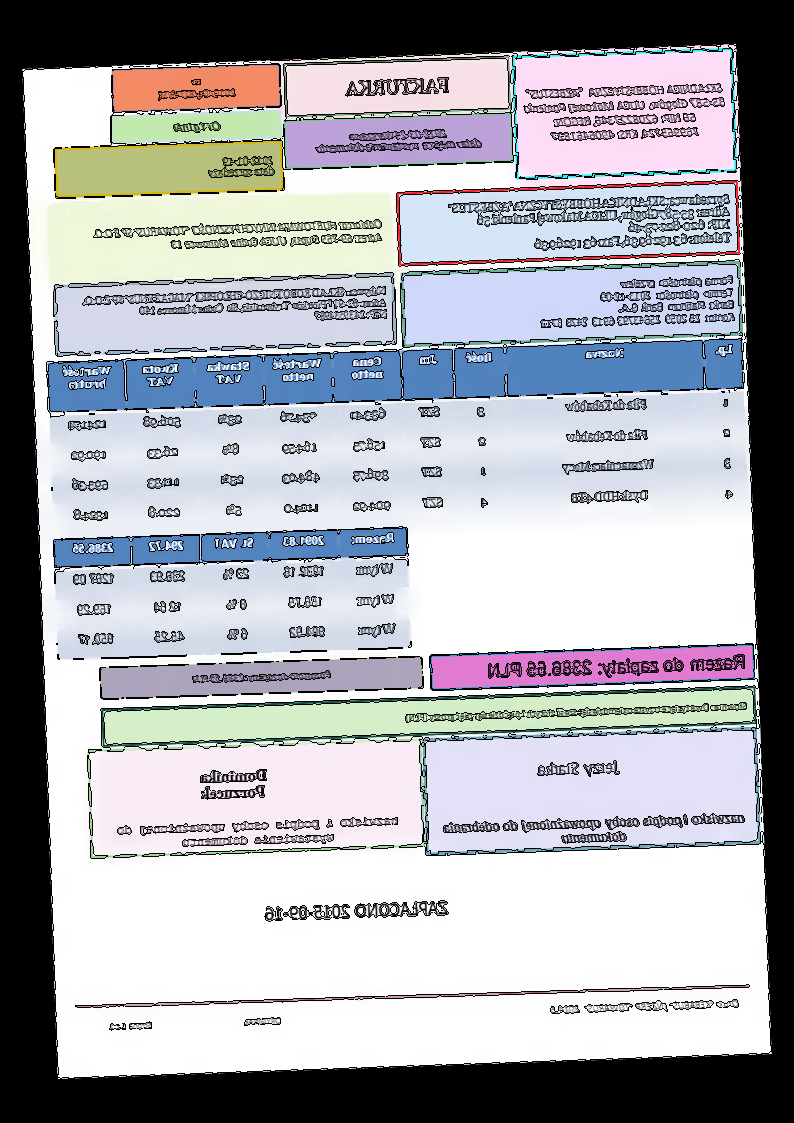Table: (45, 336, 750, 536), (52, 524, 414, 662)
TextBox: (444, 188, 735, 258), (81, 281, 390, 332), (520, 79, 730, 146), (536, 271, 737, 333), (440, 810, 747, 849), (113, 811, 402, 852), (91, 216, 385, 256), (402, 698, 750, 727), (487, 651, 748, 681), (313, 124, 485, 157), (260, 897, 451, 923), (547, 995, 740, 1018), (106, 1013, 285, 1034), (195, 765, 271, 804), (190, 667, 334, 687), (345, 74, 453, 99), (155, 73, 240, 103), (534, 756, 624, 781), (206, 151, 276, 181), (171, 116, 224, 136)
